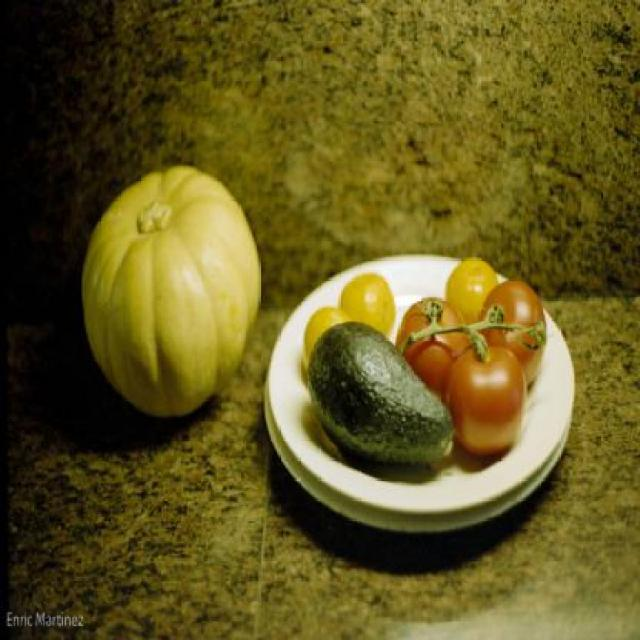Tomato: (444, 324, 527, 452), (475, 277, 547, 386), (394, 294, 472, 391)
